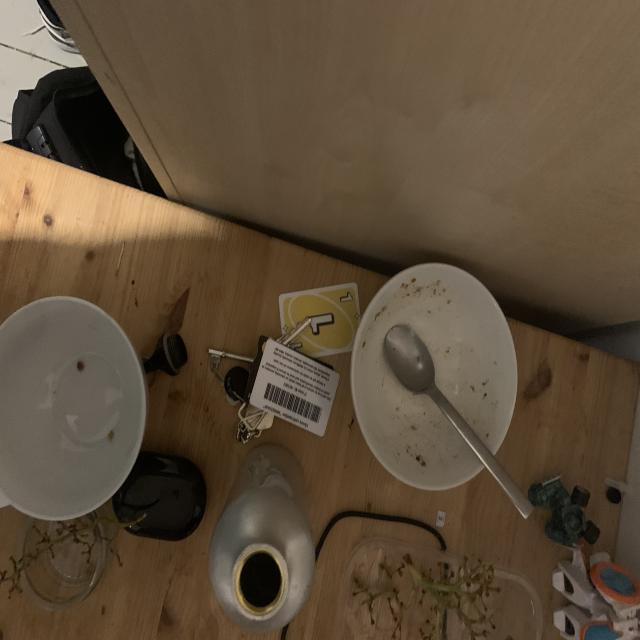lyellow-1: (338, 288, 355, 307)
